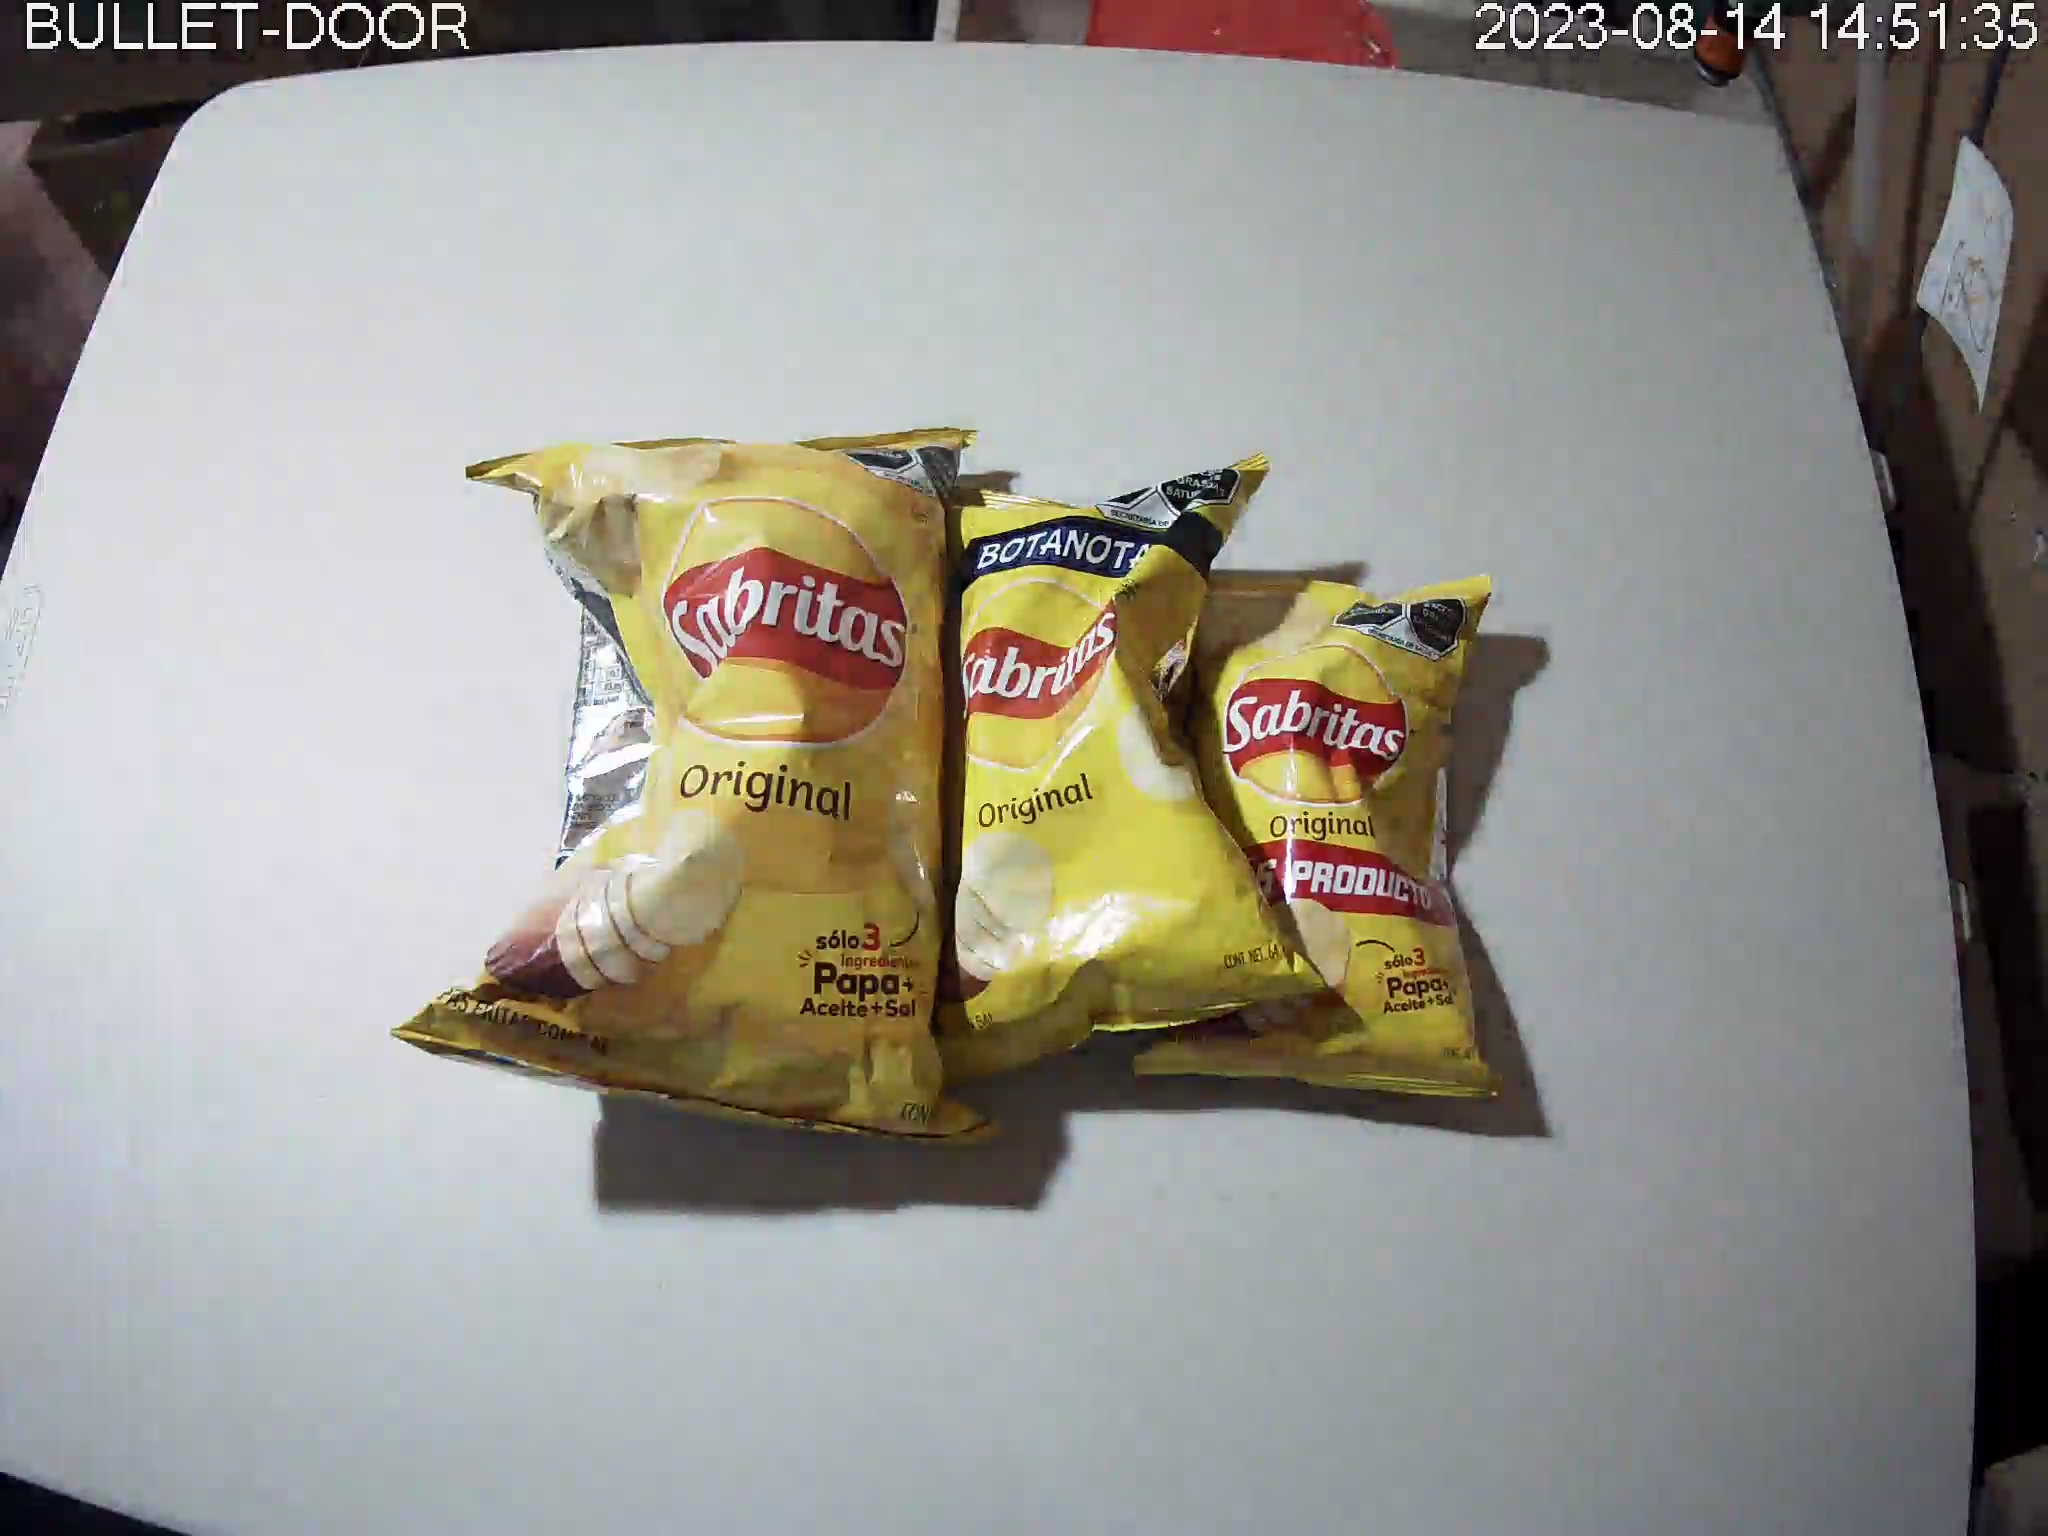Sabritas_160_F: (385, 426, 977, 1158)
Sabritas_45_F: (1176, 573, 1514, 1113)
Sabritas_64_F: (927, 453, 1268, 1075)
